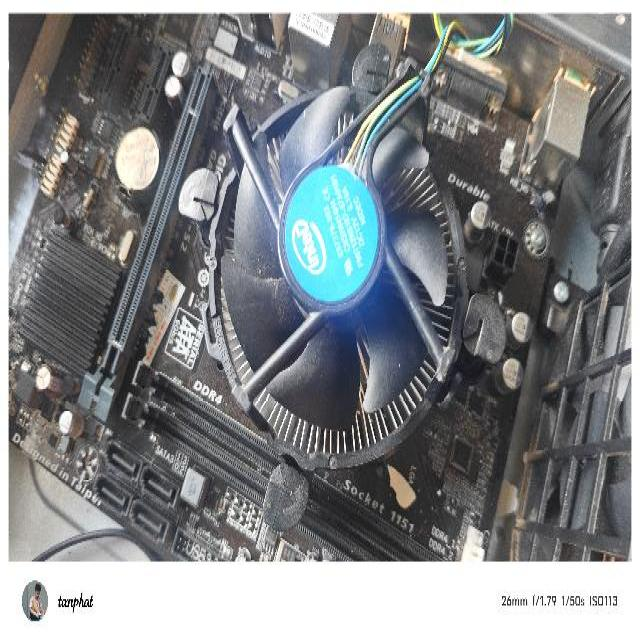CPU_Fan: (178, 40, 506, 529)
Mainboard: (7, 16, 546, 563)
